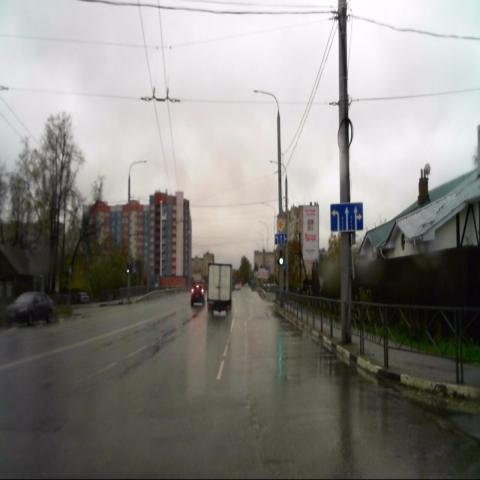2_1: (276, 218, 285, 233)
5_15_1: (330, 202, 364, 233), (274, 234, 287, 246)
